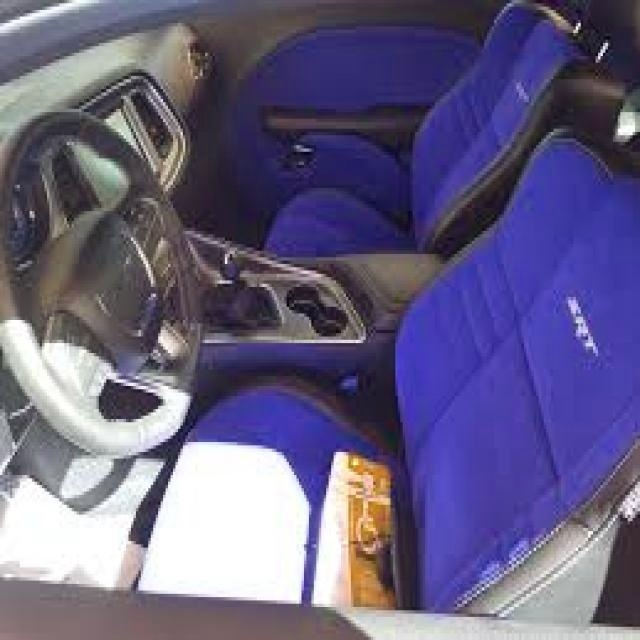ISA: (354, 491, 390, 559)
